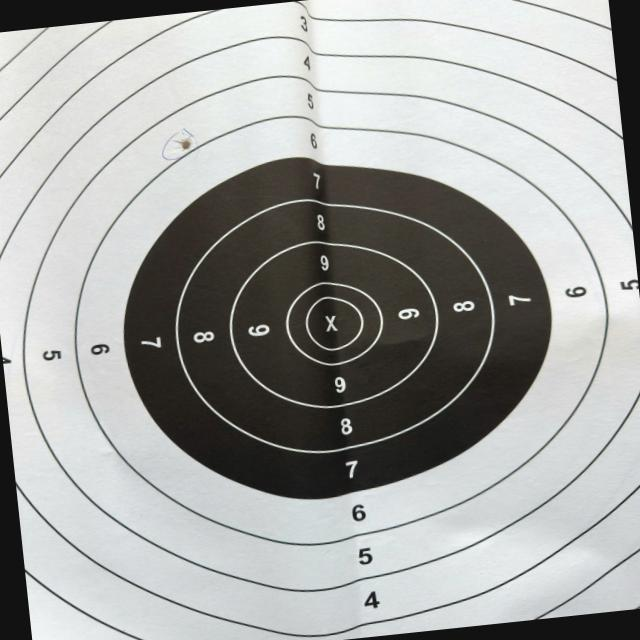bullet: (181, 137, 192, 149)
target: (0, 0, 640, 640)
